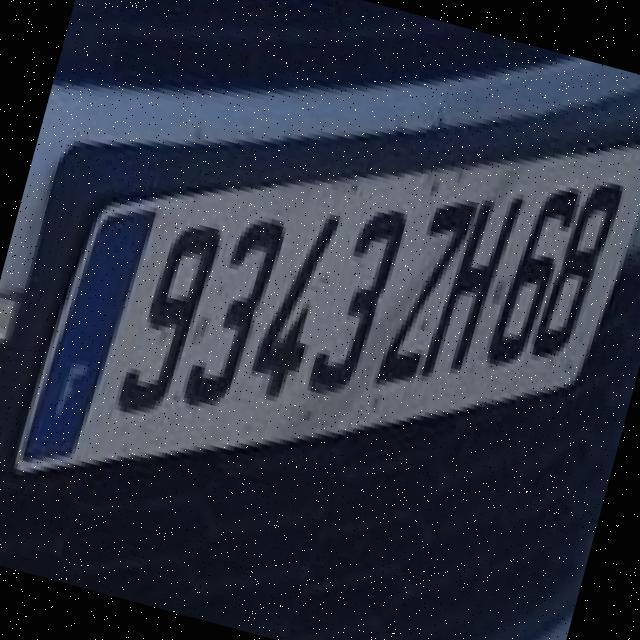EU: (10, 148, 640, 469)
France: (13, 212, 156, 464)
